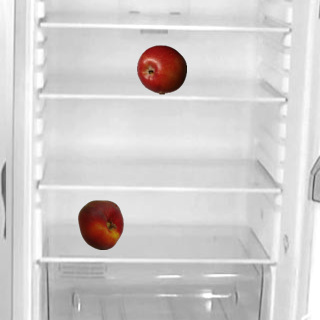Apple Braeburn: (136, 44, 186, 94)
Nectarine Flat: (75, 199, 125, 249)
